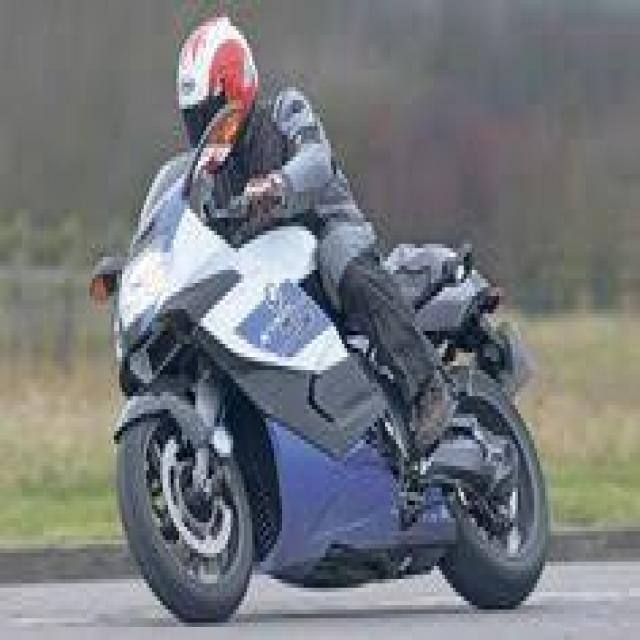Bike: (87, 98, 550, 624)
